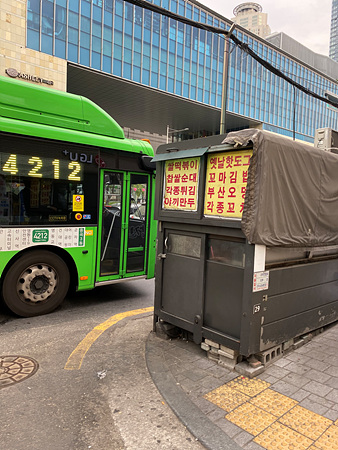entrance: (96, 164, 148, 280)
